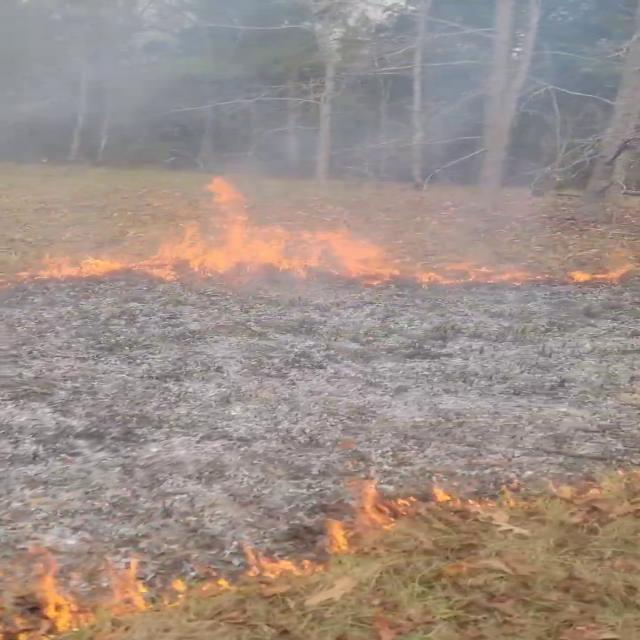Fire: (153, 170, 404, 284)
Smoke: (4, 0, 632, 251)
